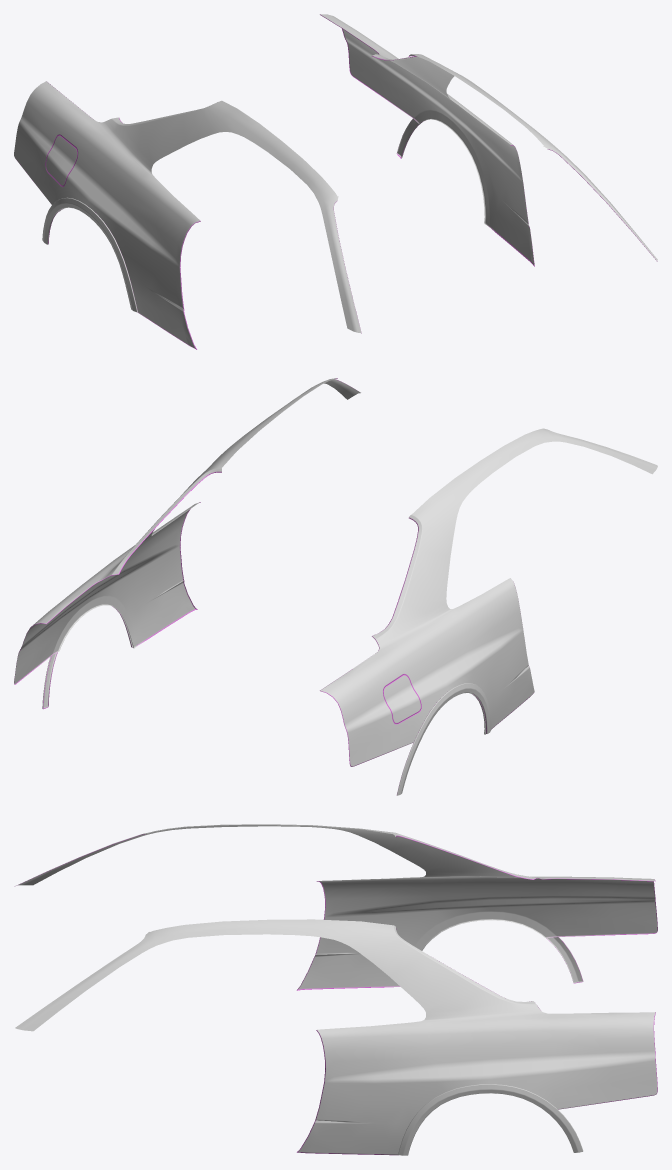
File: Car_Nissan_SkylineGTRVspecR34_1999_FendersR_SetD.fbx
3 views of the same model, one above another, from view 1: azimuth 30°, elevation 25°; view 2: azimuth 150°, elevation 25°; view 3: azimuth 270°, elevation 25° (orthographic).
Parts seen in each view (by area): view 1: FendersR 6; view 2: FendersR 6; view 3: FendersR 6.
Part boxes in pixels (box(x1,y1,x2,y2)): FendersR 6: box(14, 14, 657, 349); FendersR 6: box(14, 378, 657, 795); FendersR 6: box(14, 824, 657, 1155).
Size of the model in its own units: 1.8 by 0.9508 by 2.79.
